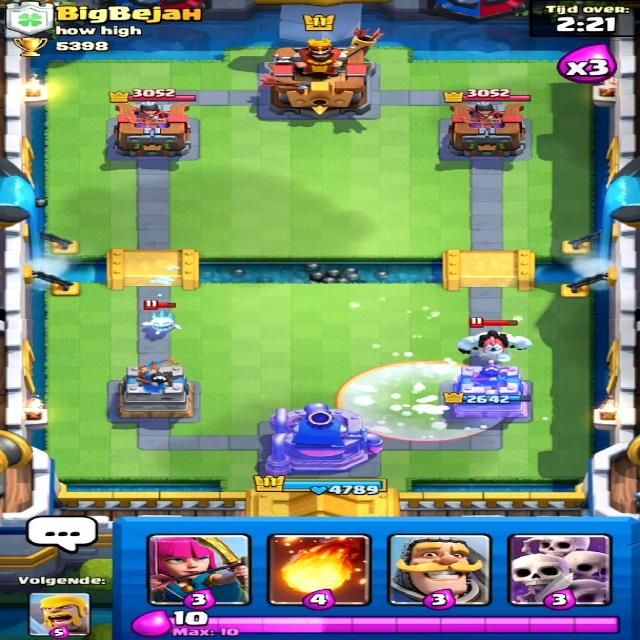Enemy_Ice_Golem_Troop: (455, 331, 537, 367)
Enemy_Ice_Spirit_Troop: (142, 310, 181, 338)
Fireball_Card: (268, 534, 372, 610)
